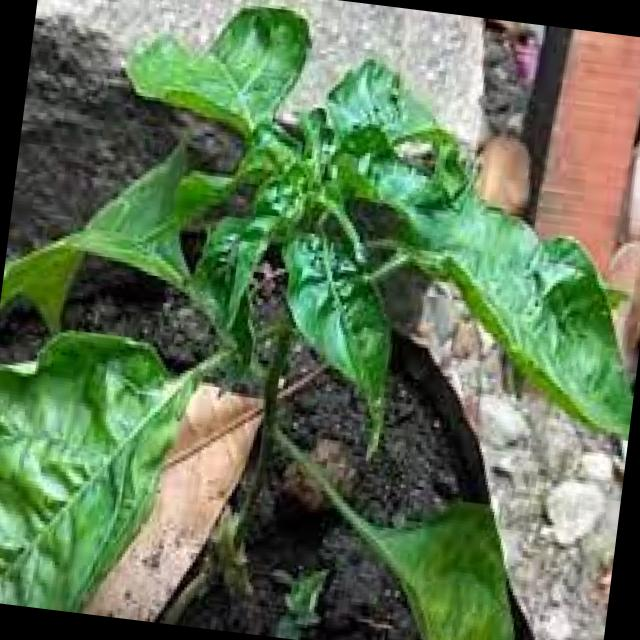Chilli_Leaf_Curl: (0, 0, 640, 640), (0, 315, 206, 621), (255, 430, 553, 640)
